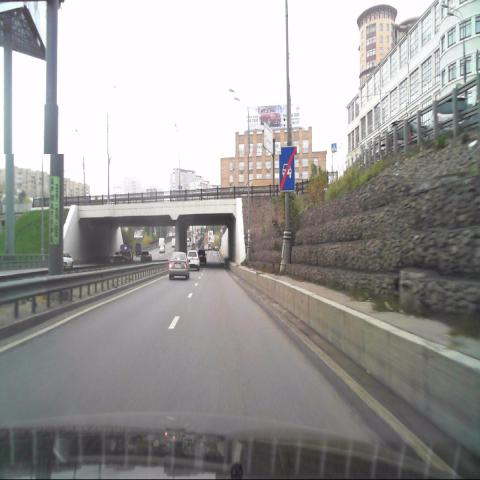5_4: (279, 146, 297, 192)
